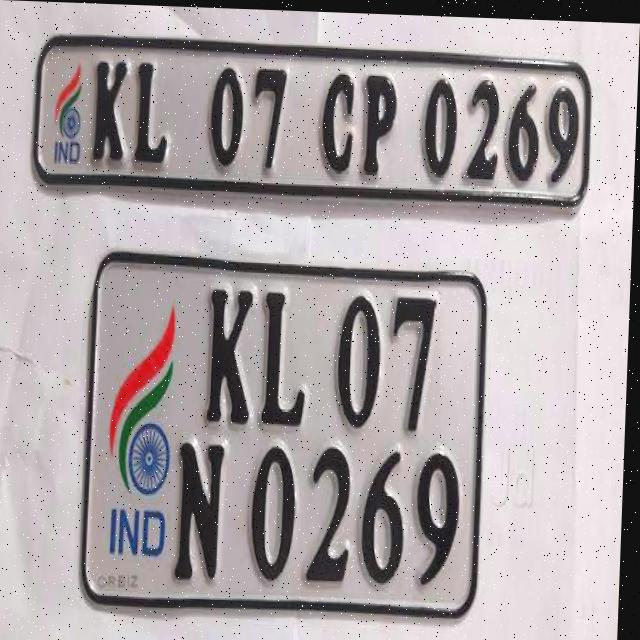plate: (84, 250, 491, 617), (33, 30, 598, 212)
